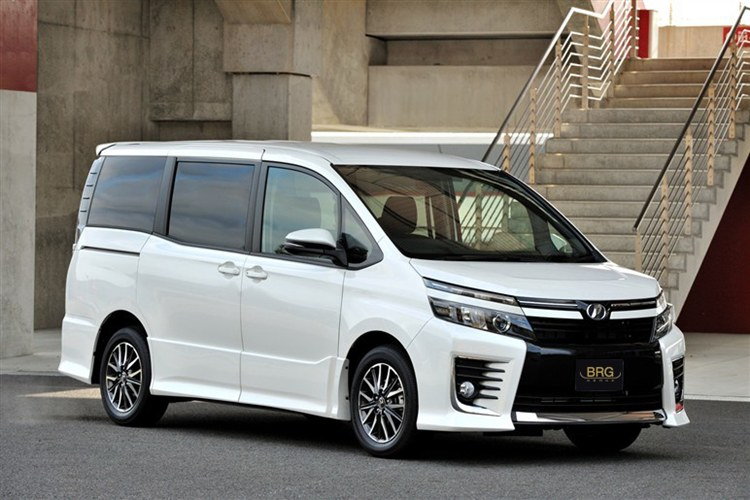van: (55, 138, 691, 456)
